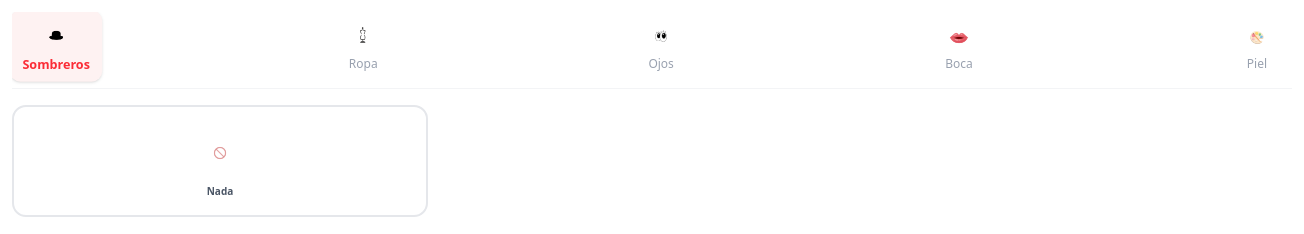
Test: AvatarEditor Component › switches tab correctly
The image size is (1304, 234).
Click the button "Ropa" at (363, 46), box [328,12,398,80]
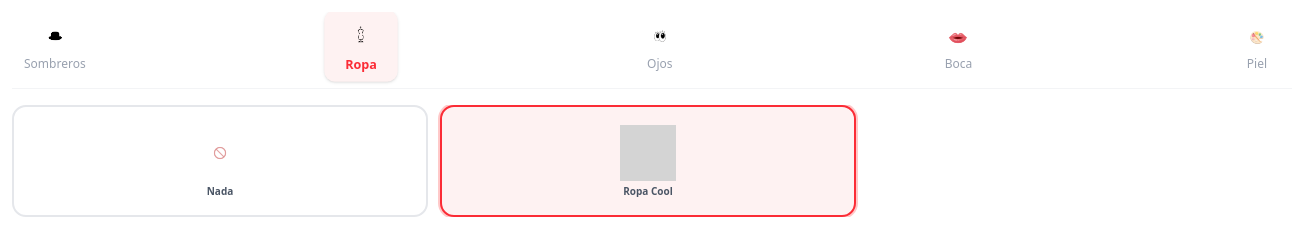
Expected: the button "Ropa Cool" is shown, [440,105,856,217]
